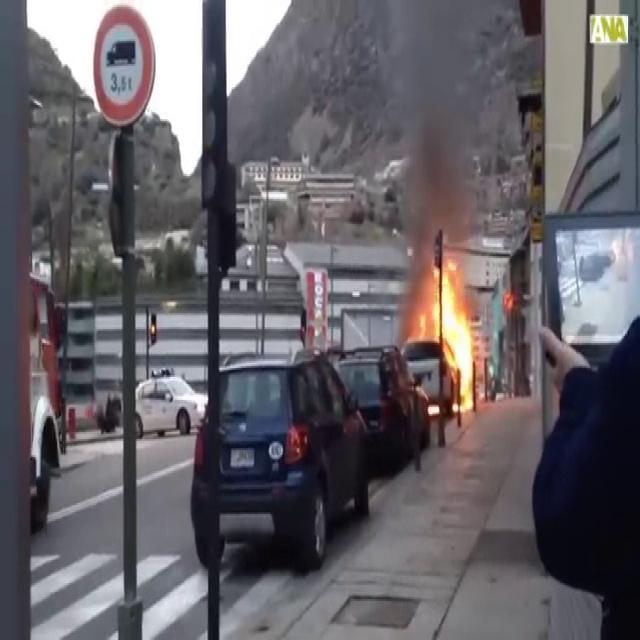Fire: (419, 252, 480, 410)
Smoke: (382, 0, 496, 254)
